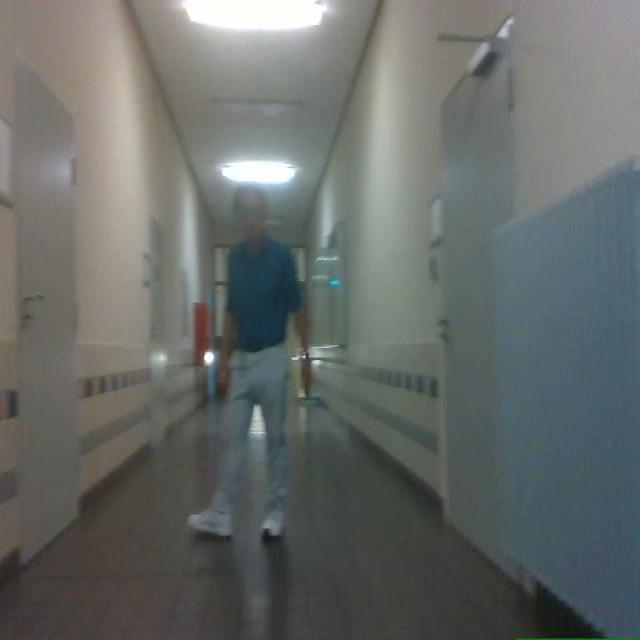humans: (188, 185, 310, 539)
